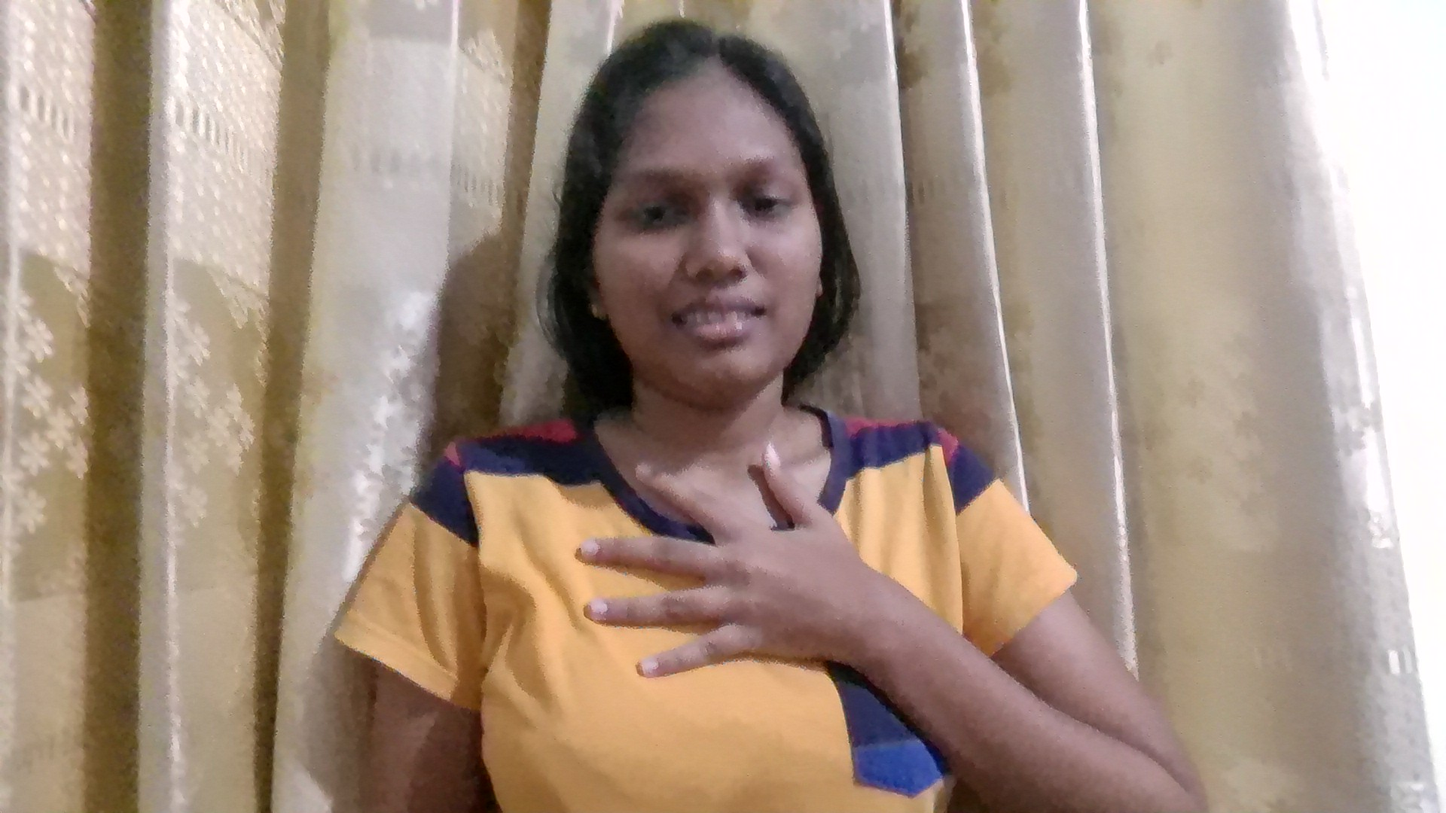Please: (591, 420, 939, 732)
